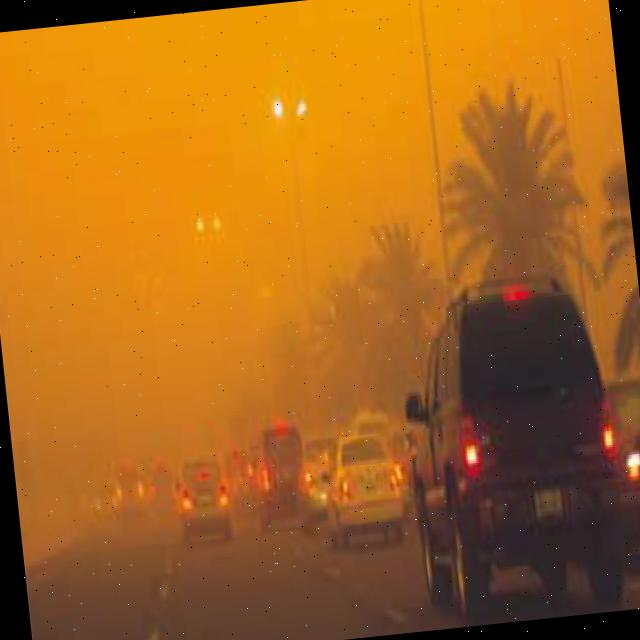car: (399, 276, 637, 622), (324, 429, 410, 553), (602, 373, 640, 578), (178, 452, 232, 538), (296, 440, 341, 530), (147, 454, 180, 518), (108, 466, 150, 516)
truck: (253, 416, 311, 518)
